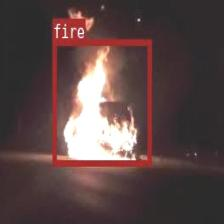fire: (52, 39, 151, 164)
